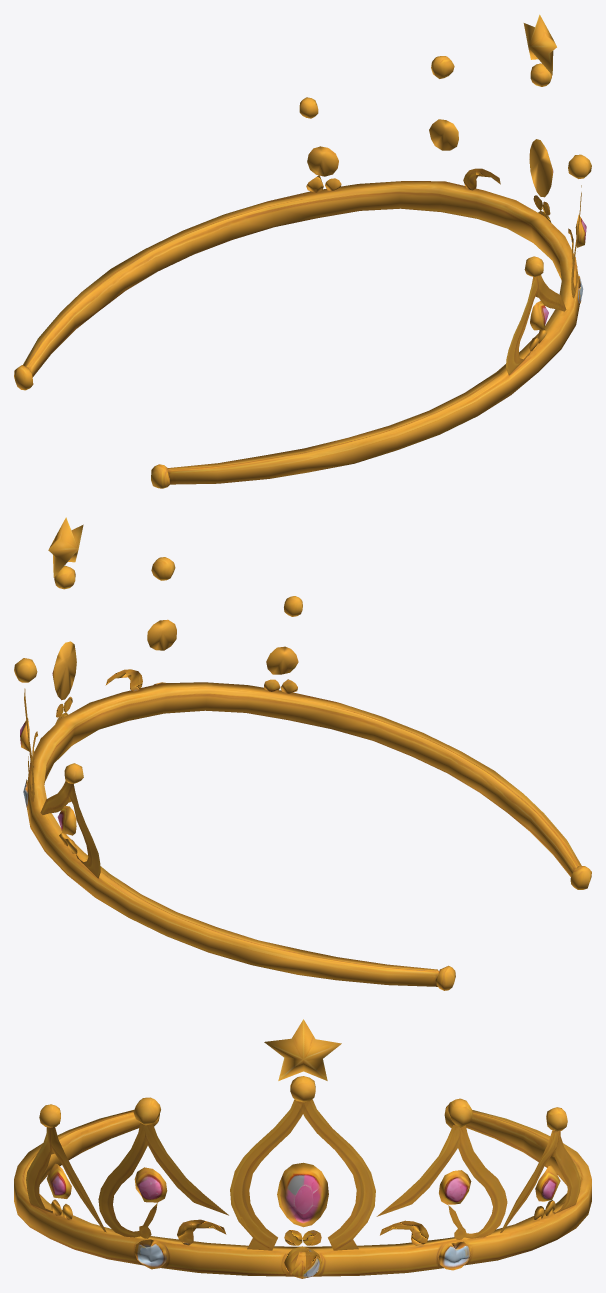
Rendered from tiara-r8.glb.
The picture shows the model from 3 angles, top to bottom: view 1: azimuth 30°, elevation 25°; view 2: azimuth 150°, elevation 25°; view 3: azimuth 270°, elevation 25°; orthographic projection. The views are drawn at different scales.
Parts seen in each view (by area): view 1: tripo_node_a3aee1b1-309c-4511-9f32-3f901e2b02d2; view 2: tripo_node_a3aee1b1-309c-4511-9f32-3f901e2b02d2; view 3: tripo_node_a3aee1b1-309c-4511-9f32-3f901e2b02d2.
Part boxes in pixels (x1,y1,x2,y2): tripo_node_a3aee1b1-309c-4511-9f32-3f901e2b02d2: [14, 14, 591, 488]; tripo_node_a3aee1b1-309c-4511-9f32-3f901e2b02d2: [14, 517, 591, 990]; tripo_node_a3aee1b1-309c-4511-9f32-3f901e2b02d2: [14, 1019, 591, 1278].
Bounding box in the file's own units: 0.998 × 0.6387 × 0.9355.
1 material, 1 textured.
